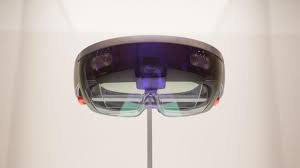hololens: (73, 33, 226, 121)
